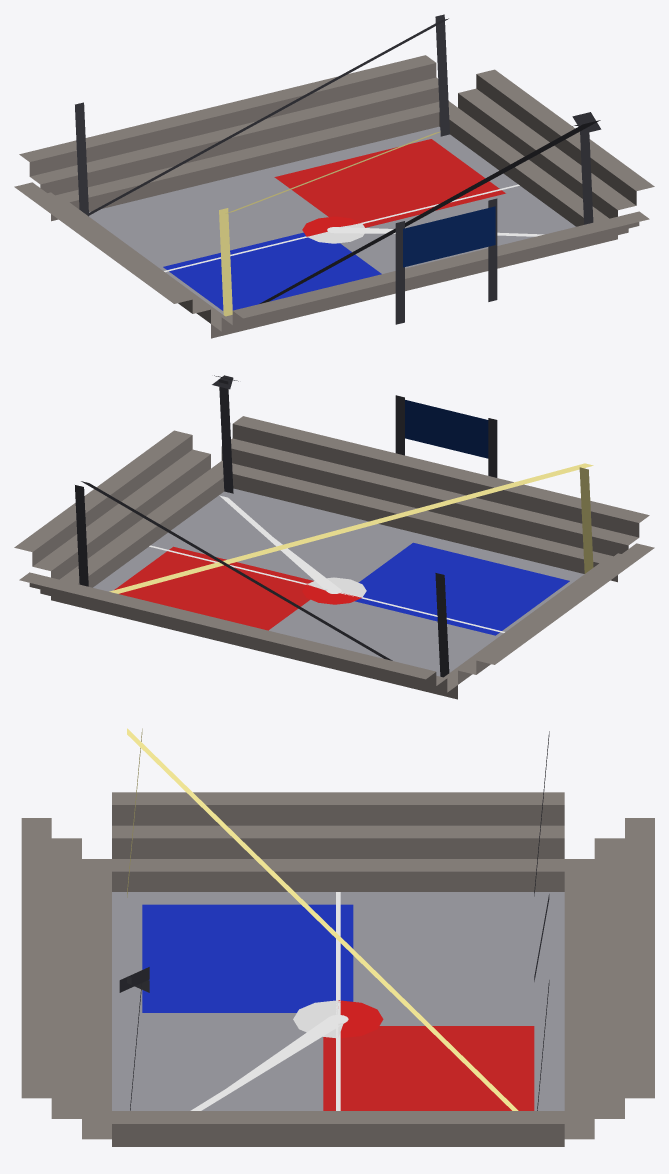
The model's file is stadium.obj.
3 views of the same model, one above another, from view 1: azimuth 30°, elevation 25°; view 2: azimuth 150°, elevation 25°; view 3: azimuth 270°, elevation 25° (orthographic). The views are drawn at different scales.
Parts seen in each view (by area): view 1: Stands_South, Arena_Base, Stands_East, Battle_Field_Rival, Stands_North, Battle_Field_Player, Stands_West, Scoreboard, Light_Post_NW, Light_Post_NE, Light_Lamp_NE, Scoreboard_Support_L (+5 smaller); view 2: Stands_North, Arena_Base, Stands_East, Battle_Field_Player, Stands_South, Battle_Field_Rival, Stands_West, Light_Lamp_NE, Scoreboard, Light_Post_NW, Light_Post_NE, Pokeball_Center_Button (+5 smaller); view 3: Arena_Base, Stands_West, Stands_South, Stands_North, Battle_Field_Player, Battle_Field_Rival, Stands_East, Light_Lamp_NE, Pokeball_Center_Button, Pokeball_Top, Pokeball_Bottom, Center_Line (+1 smaller).
Part boxes in pixels (box(x1,y1,x2,y2)): Stands_South: box(19, 55, 457, 221); Arena_Base: box(89, 126, 575, 314); Stands_East: box(439, 69, 654, 226); Battle_Field_Rival: box(274, 139, 505, 227); Stands_North: box(211, 211, 649, 338); Battle_Field_Player: box(163, 232, 381, 310); Stands_West: box(14, 182, 224, 323); Scoreboard: box(403, 206, 495, 267); Light_Post_NW: box(75, 14, 449, 216); Light_Post_NE: box(259, 112, 601, 303); Light_Lamp_NE: box(219, 131, 440, 316); Scoreboard_Support_L: box(395, 221, 404, 324); Stands_North: box(211, 416, 649, 582); Arena_Base: box(93, 488, 584, 676); Stands_East: box(14, 430, 224, 587); Battle_Field_Player: box(355, 542, 569, 635); Stands_South: box(19, 572, 457, 699); Battle_Field_Rival: box(114, 546, 313, 630); Stands_West: box(444, 543, 654, 684); Light_Lamp_NE: box(109, 463, 593, 593); Scoreboard: box(405, 400, 488, 458); Light_Post_NW: box(75, 481, 449, 677); Light_Post_NE: box(212, 375, 238, 493); Pokeball_Center_Button: box(219, 495, 341, 593); Arena_Base: box(112, 892, 564, 1110); Stands_West: box(112, 792, 564, 891); Stands_South: box(564, 818, 654, 1139); Stands_North: box(21, 818, 111, 1139); Battle_Field_Player: box(142, 904, 353, 1012); Battle_Field_Rival: box(323, 1026, 534, 1110); Stands_East: box(112, 1111, 564, 1146); Light_Lamp_NE: box(127, 728, 518, 1110); Pokeball_Center_Button: box(190, 1014, 348, 1110); Pokeball_Top: box(338, 1000, 383, 1037); Pokeball_Bottom: box(293, 1000, 343, 1038); Center_Line: box(336, 892, 340, 1110).
Size of the model in its own units: 52 by 12.5 by 42.5.
